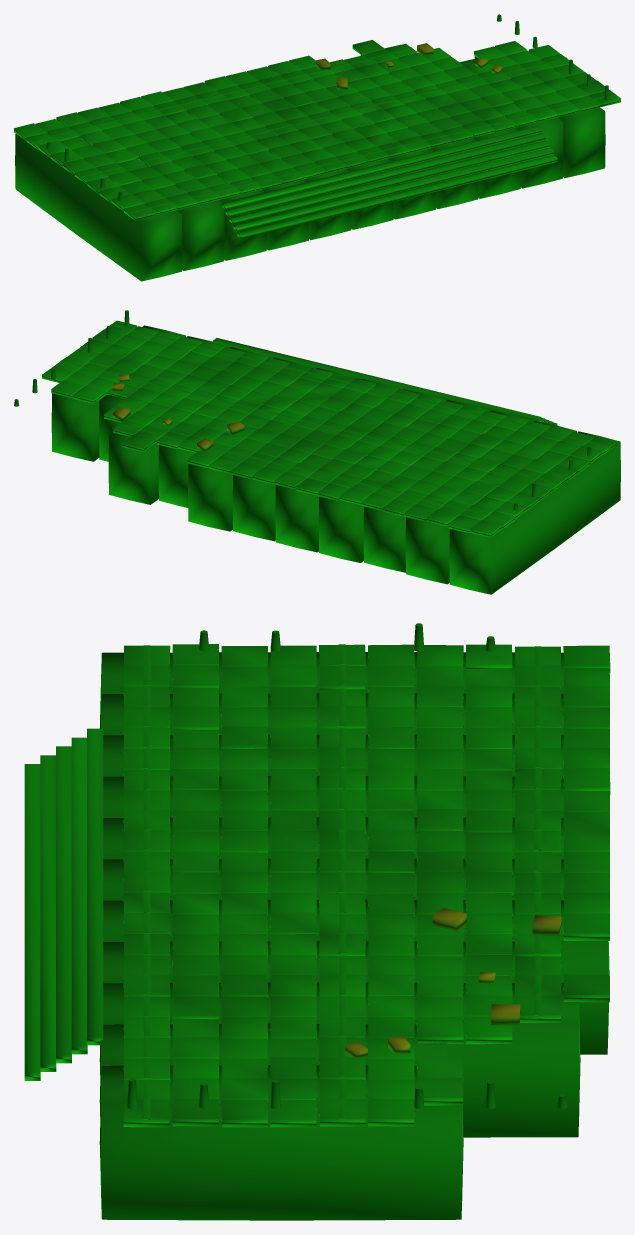
The model's file is iskarra_plaza.glb.
3 views of the same model, one above another, from view 1: azimuth 30°, elevation 25°; view 2: azimuth 150°, elevation 25°; view 3: azimuth 270°, elevation 25° (orthographic). The views are drawn at different scales.
Parts seen in each view (by area): view 1: iskarra_plaza; view 2: iskarra_plaza; view 3: iskarra_plaza.
Boxes of the visible parts, x1=… form: iskarra_plaza: x1=14, y1=14, x2=620, y2=281; iskarra_plaza: x1=14, y1=310, x2=620, y2=594; iskarra_plaza: x1=24, y1=623, x2=610, y2=1220.
Size of what is drawn, in the model's own units: 34.47 by 5.11 by 17.98.
